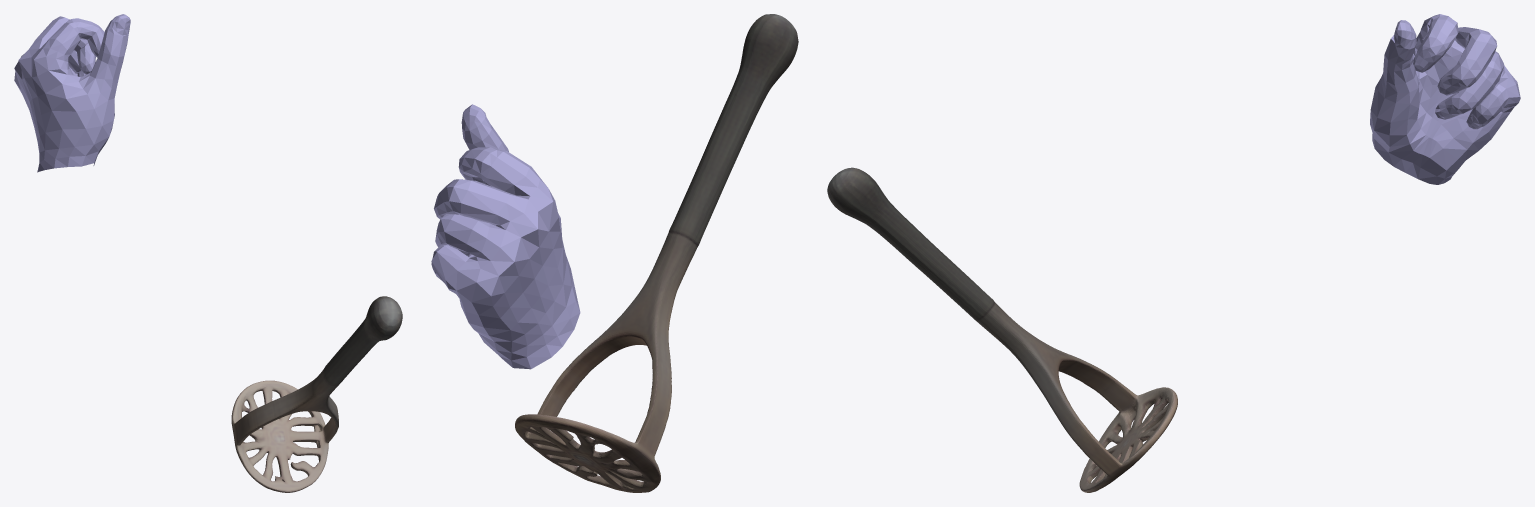
The model's file is frame_0002_source_000002_hand_object.glb.
The picture shows the model from 3 angles, left to right: view 1: azimuth 30°, elevation 25°; view 2: azimuth 150°, elevation 25°; view 3: azimuth 270°, elevation 25°; orthographic projection. The views are drawn at different scales.
Parts seen in each view (by area): view 1: world; view 2: world; view 3: world.
Boxes of the visible parts, x1,y1,x2,y2 form: world: (14,14,402,492); world: (431,14,798,492); world: (827,14,1520,492).
Size of the model in its own units: 0.129 by 0.2998 by 0.4239.
